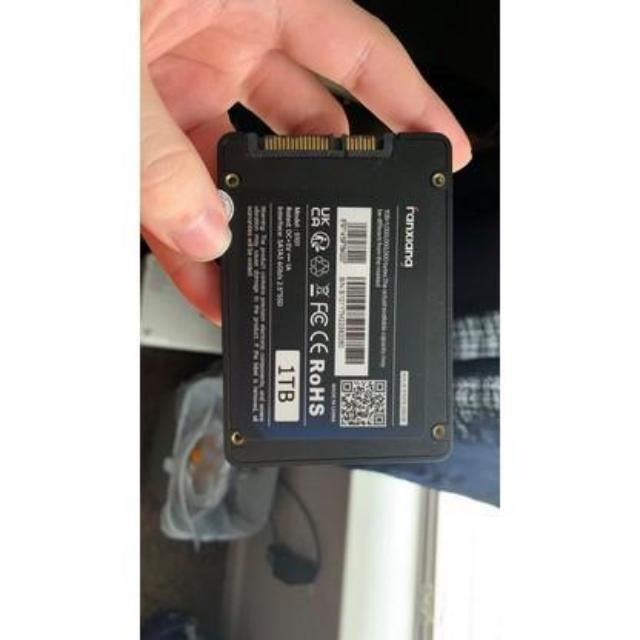DISK: (212, 127, 454, 464)
